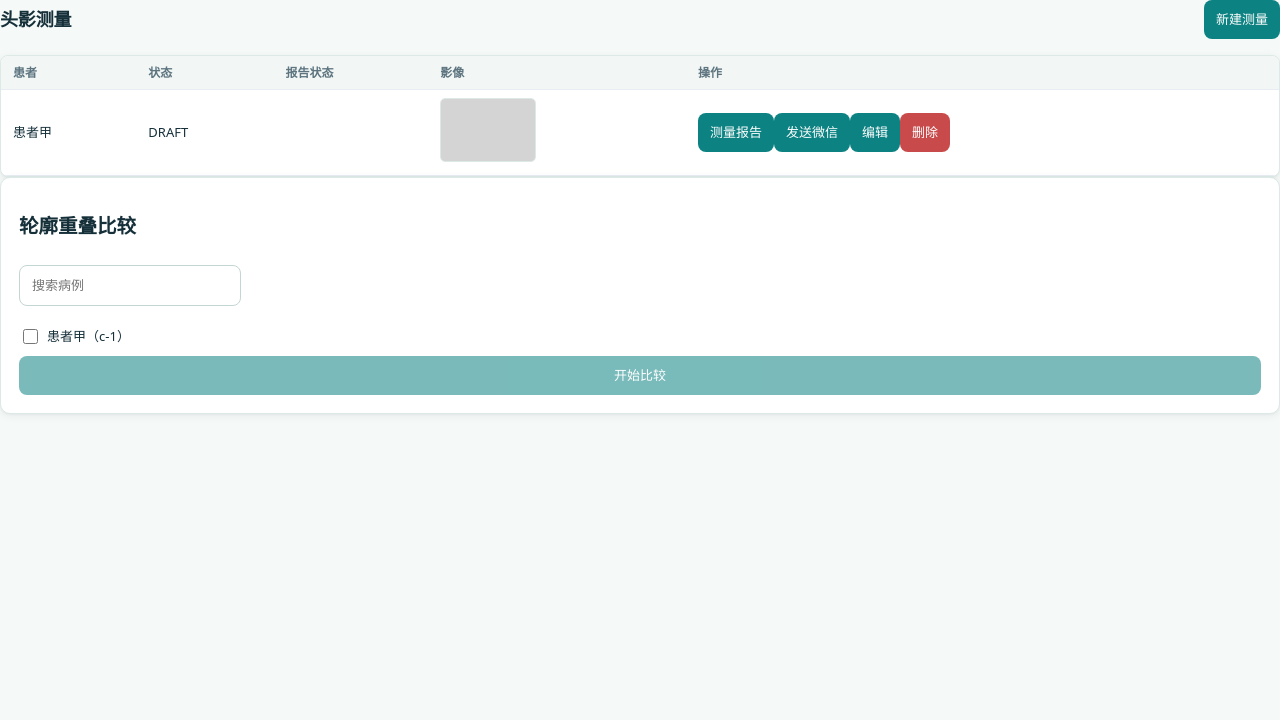
Scenario: CephalometricPage › validates required patient and image fields
This screenshot has width=1280, height=720.
Expected: the text "DRAFT" is shown, [136, 90, 274, 176]
Click the button "新建测量".
click(1242, 19)  # box [1204, 0, 1279, 39]
(page scrolled)
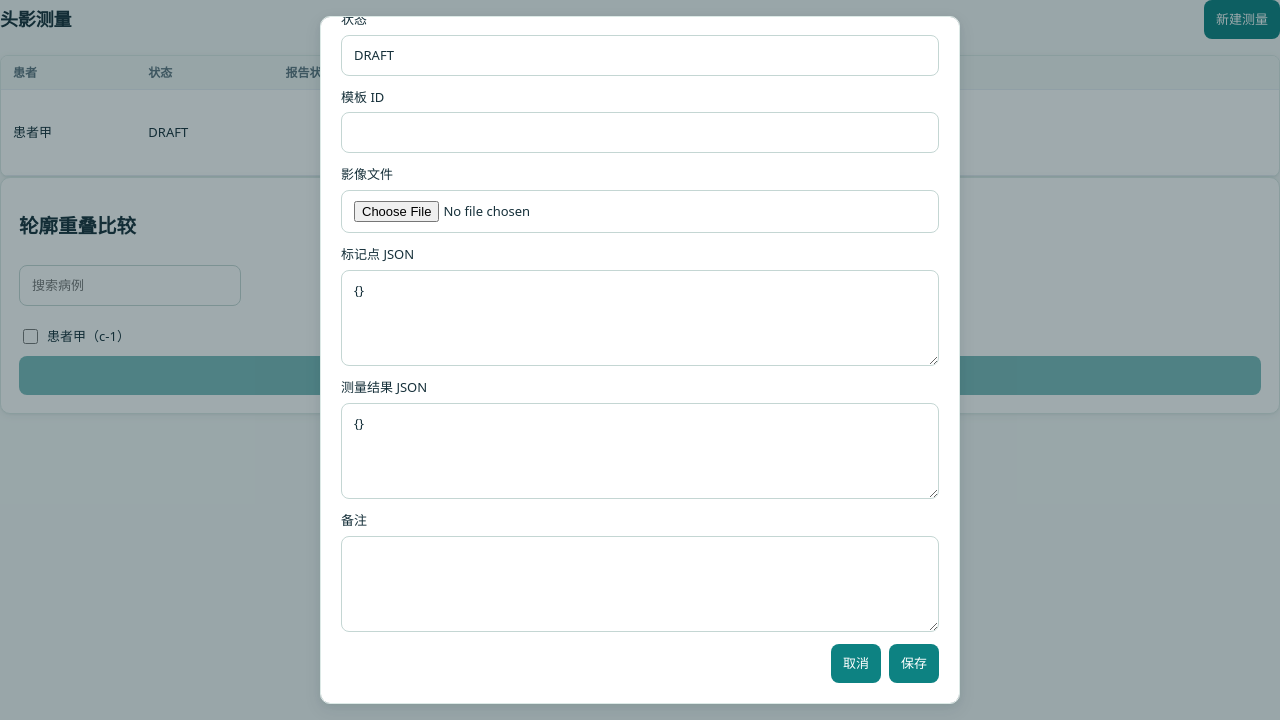
Click the button "保存".
click(914, 663)  # box [889, 644, 939, 682]
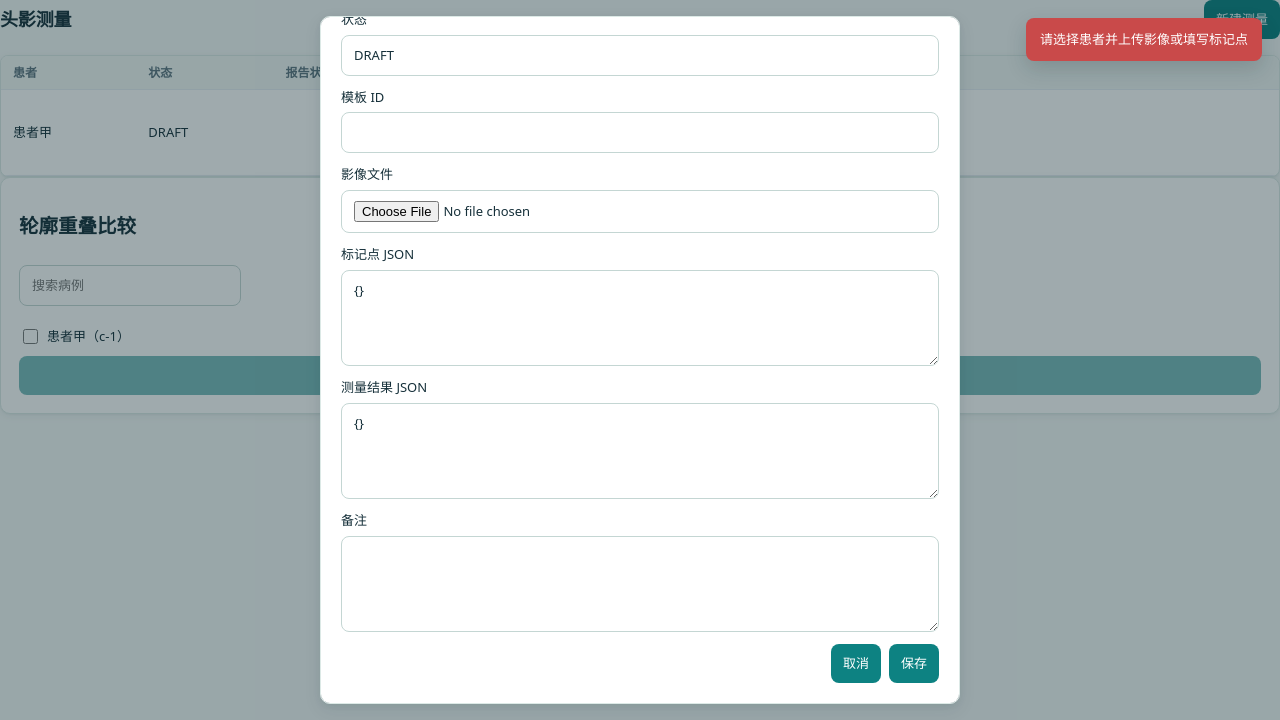
Result: the text "请选择患者并上传影像或填写标记点" is shown at [1026, 18, 1262, 61]
